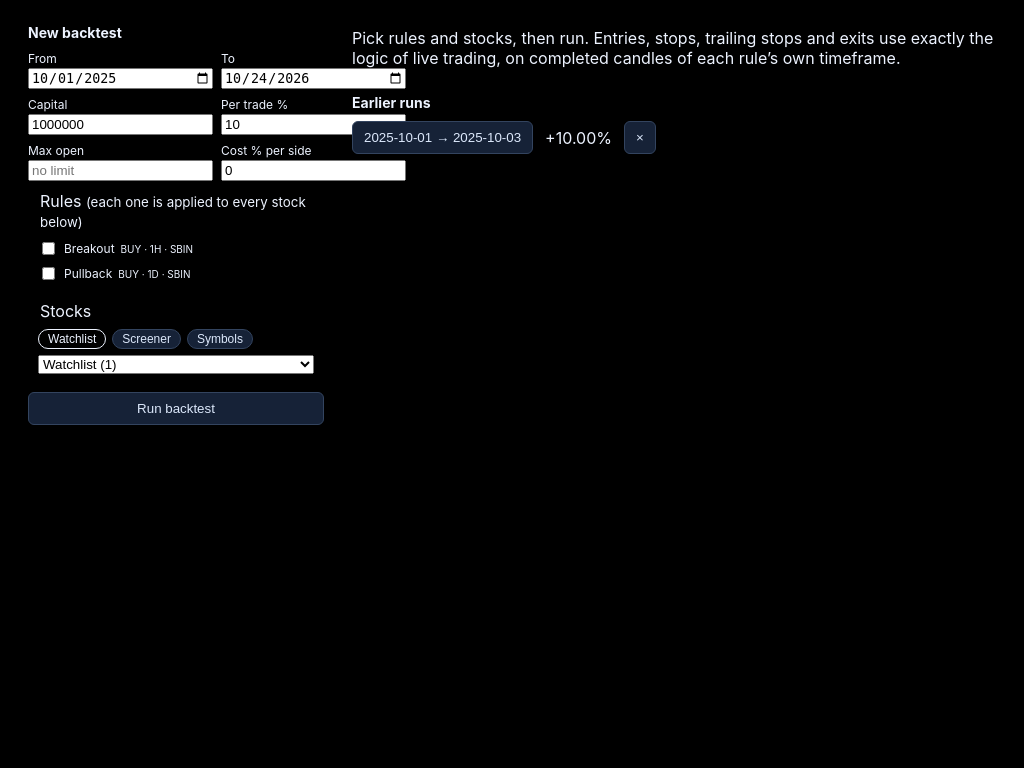
Scenario: BacktestView › shows the report: headline numbers, open positions, trades and notes
What coordinates should you click on to do the following:
click the checkbox labelled "Breakout BUY · 1H · SBIN"
I would click on:
 (48, 249)
Its box is 42,242 -> 55,255.
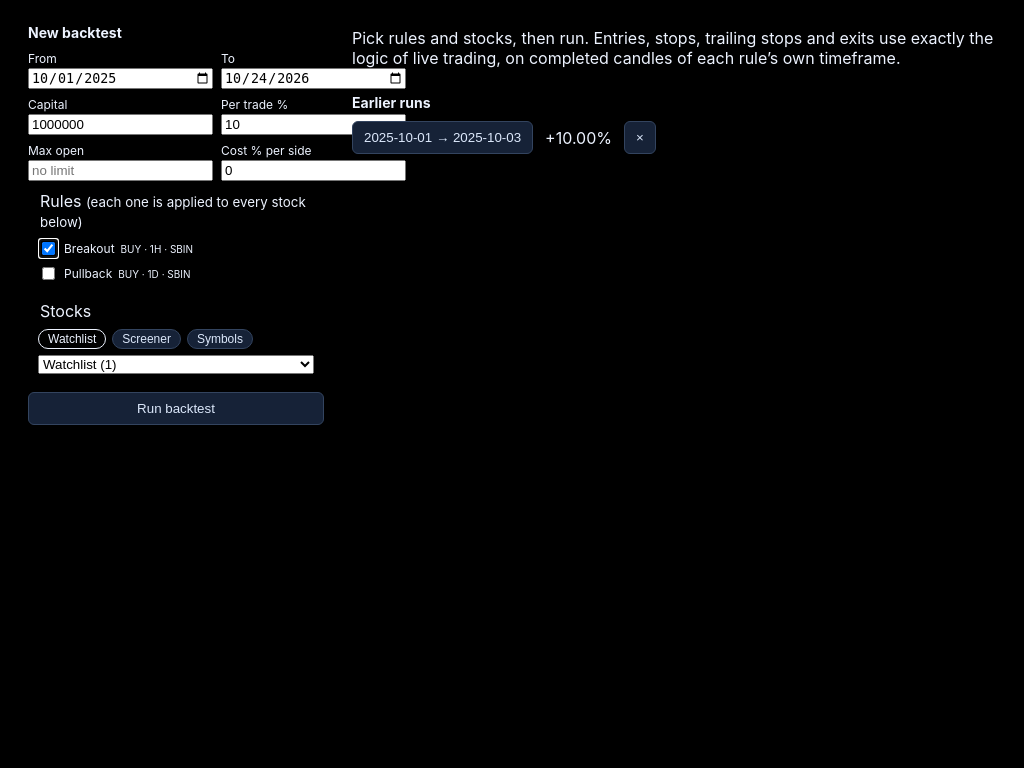
What coordinates should you click on to do the following:
click the button "Run backtest"
I would click on:
 (176, 409)
Its box is 28,392 -> 324,425.
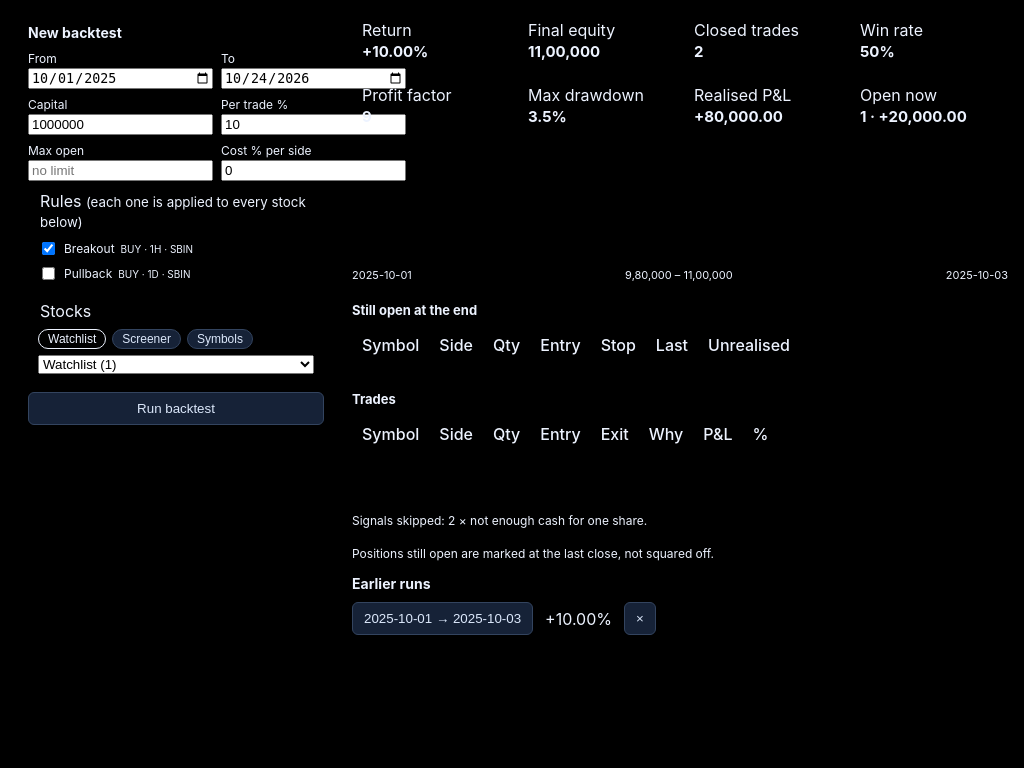
Expected: the text "Closed trades" is shown, 694,20 -> 799,40
Expected: the text "11,00,000" is shown, 528,42 -> 600,61
Expected: the picture named "Equity curve" is shown, 352,144 -> 1008,264
